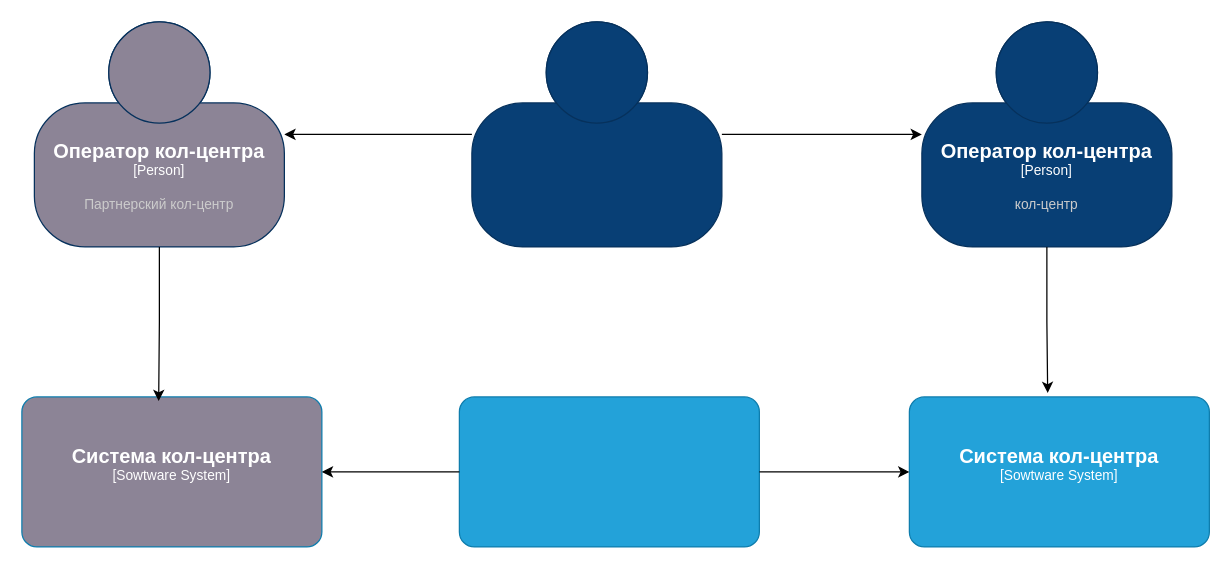
Some shapes in this 1231 by 569 pixel diagram are drawn without their labels. The centre of each missing label's shape, as x and y in pixels:
"Клиент [Person] Клиент" belongs at point (596, 134).
"Сервис ставок [Sowtware System]" belongs at point (608, 471).
